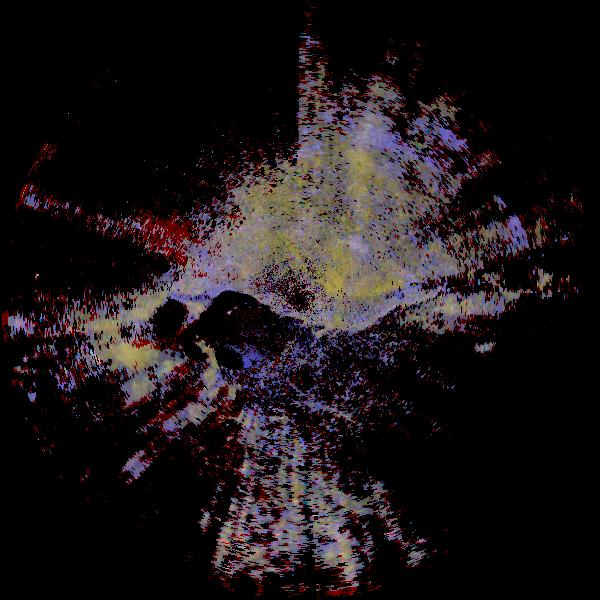roost: (69, 331, 162, 424), (141, 325, 231, 415)
